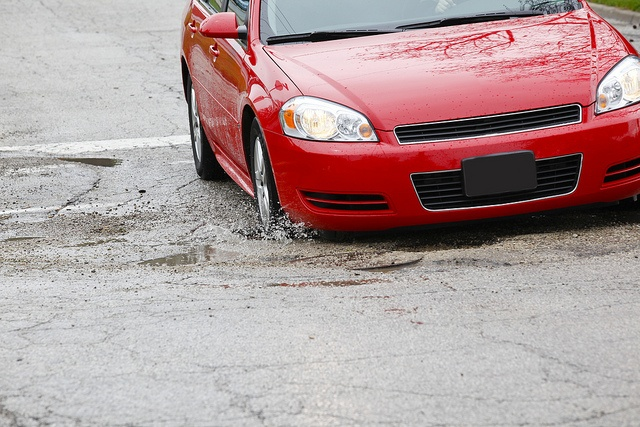pothole: (56, 231, 249, 279), (322, 250, 458, 275), (55, 147, 139, 181)
